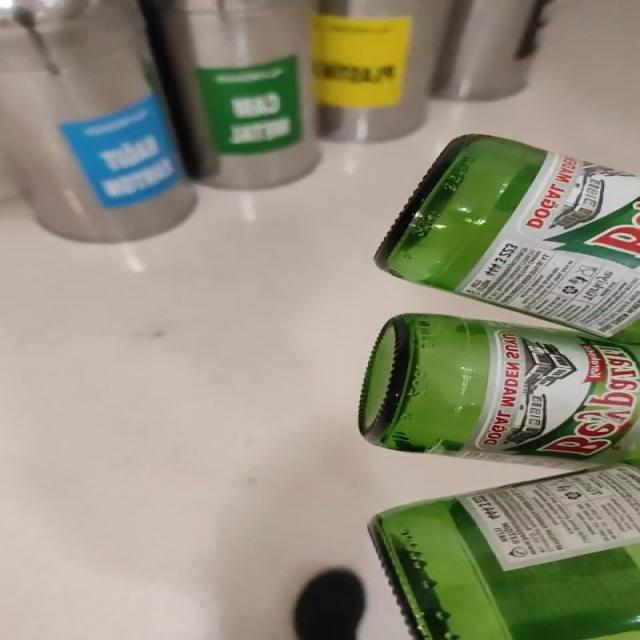glass: (359, 134, 640, 640)
